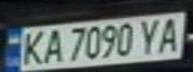0: (115, 20, 139, 56), (81, 24, 103, 61)
7: (63, 25, 87, 62)
9: (100, 22, 121, 58)
A: (154, 15, 187, 53), (39, 26, 66, 64)
K: (18, 28, 48, 66)
Y: (136, 16, 166, 55)
